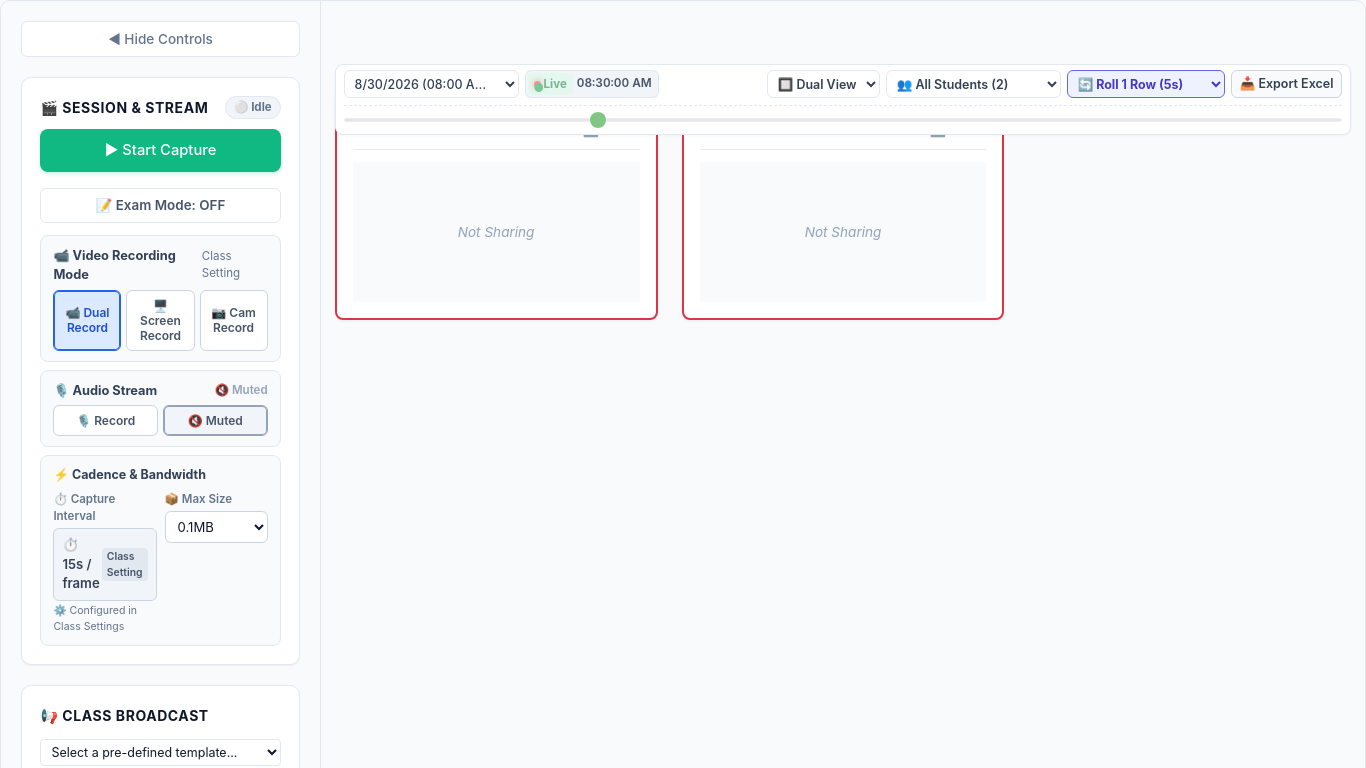
Test: MonitorView Component Suite › adapts auto-rolling columns and resets row alignment when controls are toggled or window resized
Enable auto-roll
Select "🔄 Roll 1 Row (5s)" in the dropdown named "Auto-roll student rows" at coordinates (1146, 84), box [1067,70,1225,98]
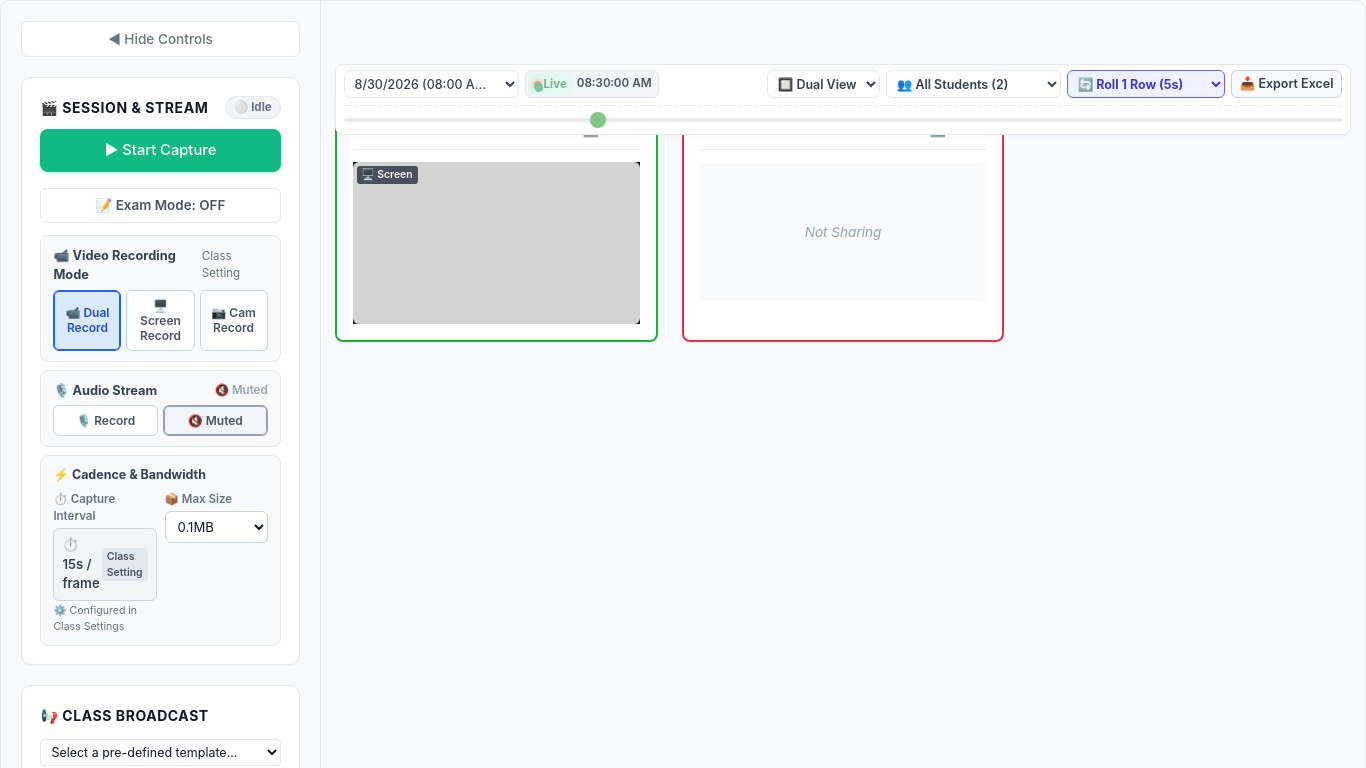
Click the button "◀ Hide Controls" at coordinates (160, 39), box [21,21,300,57]
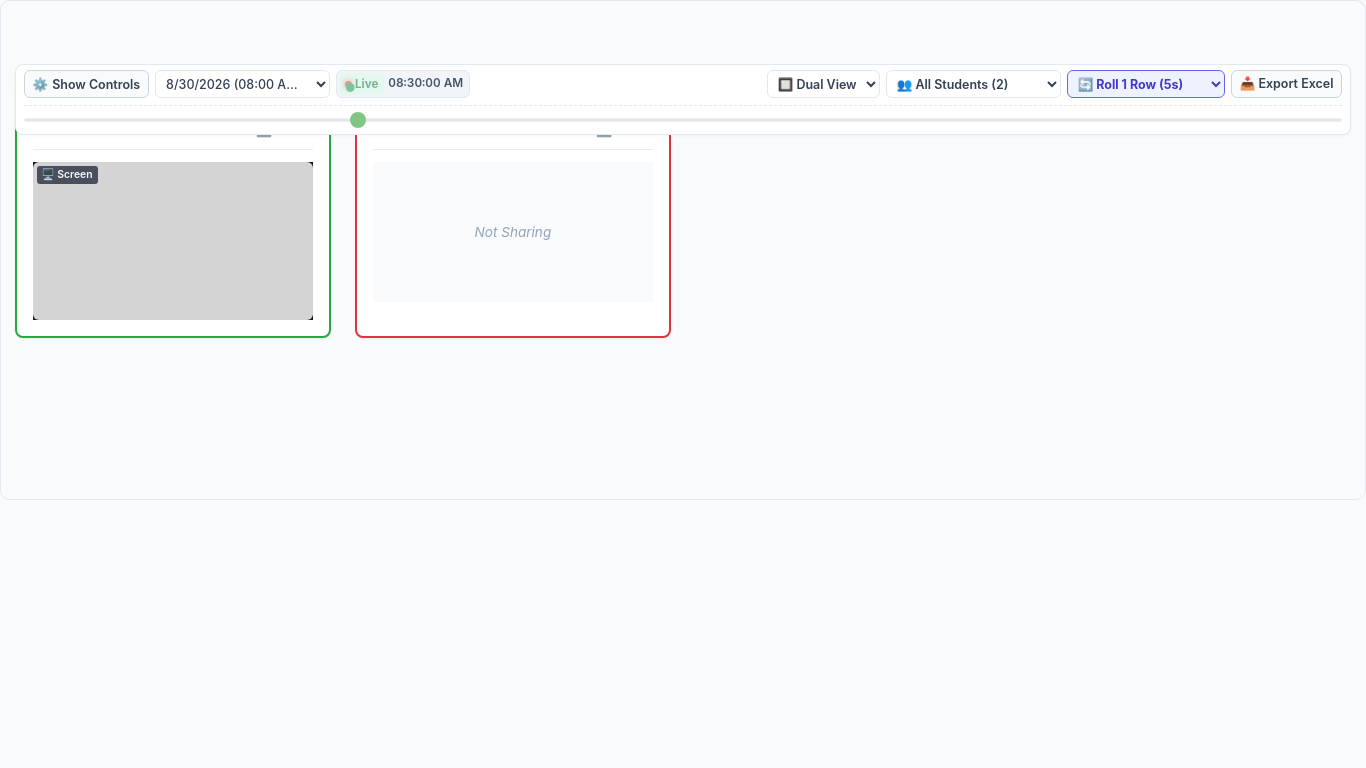
Now the button "⚙️ Show Controls" is shown
Re-show controls
Click the button "⚙️ Show Controls" at coordinates (86, 84), box [24,70,149,98]
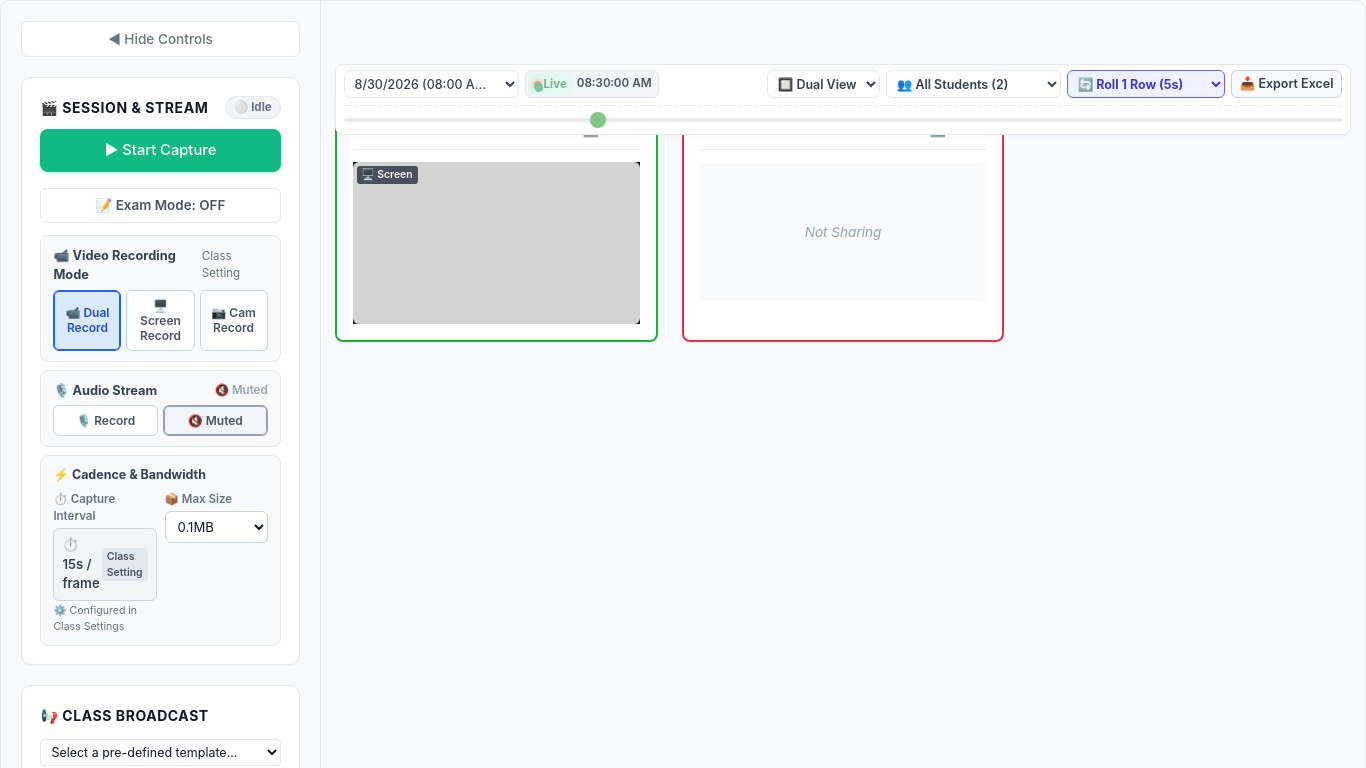
Now the button "Show Controls" is gone
